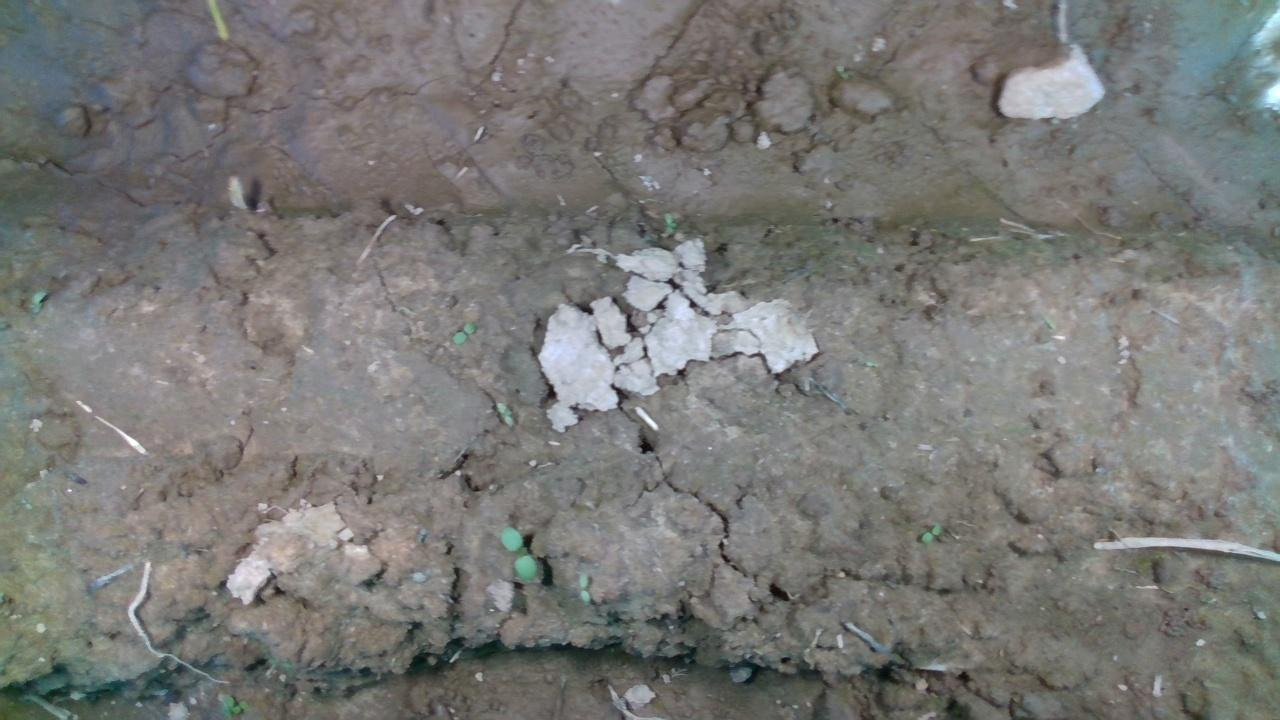weed: (451, 316, 480, 348), (571, 566, 593, 603), (921, 517, 939, 550)
